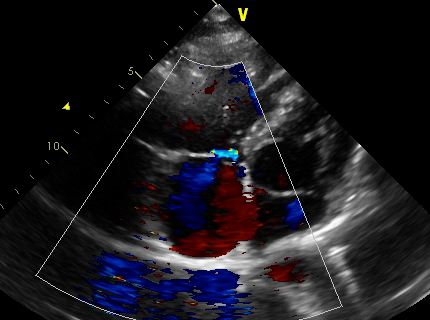TR: (185, 147, 246, 167)
